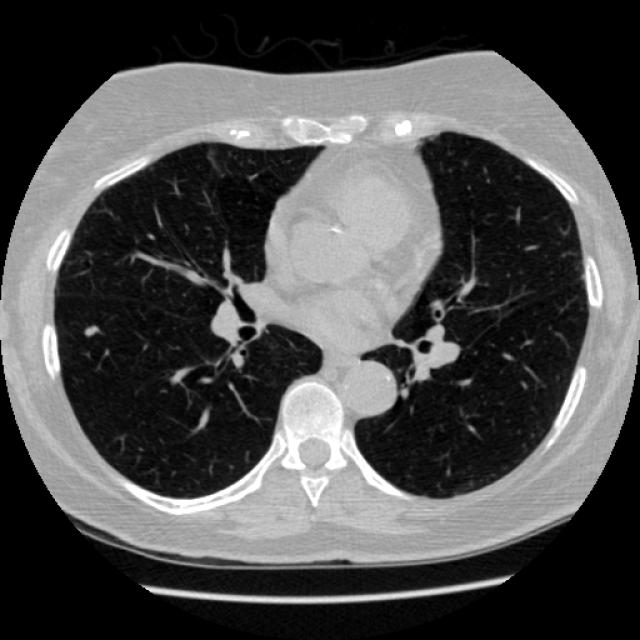nodule: (79, 319, 101, 341)
